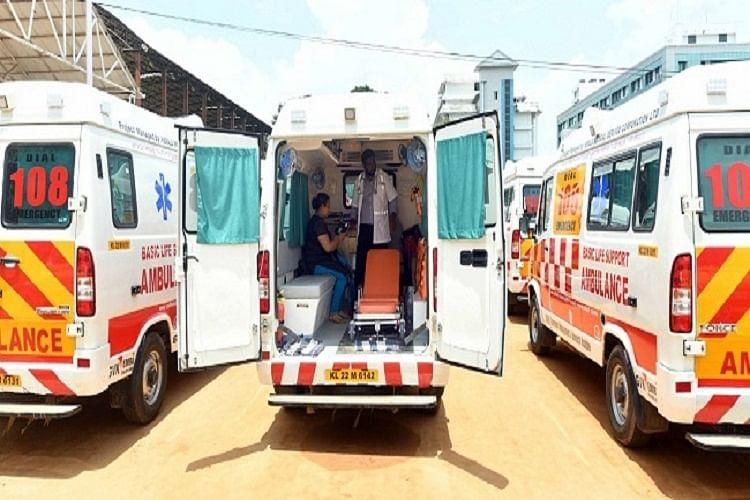ER: (44, 1, 742, 500)
